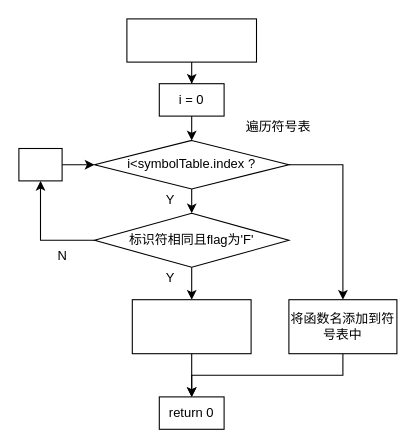
Image size: 416x448. Some labels were removed from this diagram. The box of each missing label's shape, as (x1, y1, x2, y2) in pixels:
case FUNC_DEC: (126, 18, 256, 62)
i++: (18, 147, 62, 181)
函数定义中出现了相同的函数名: (131, 299, 251, 354)
